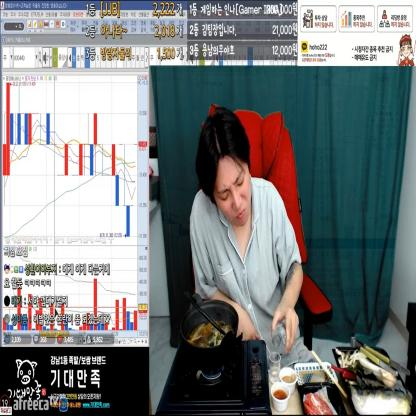streamer: (188, 103, 316, 365)
